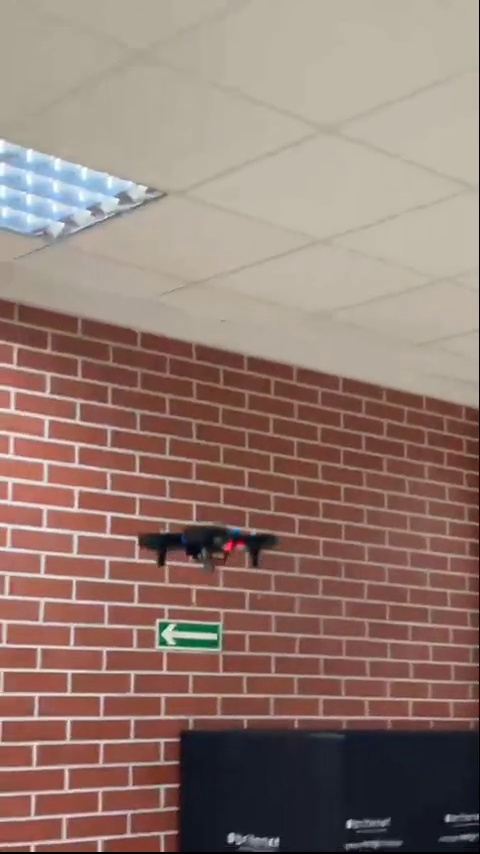drone: (140, 523, 282, 570)
